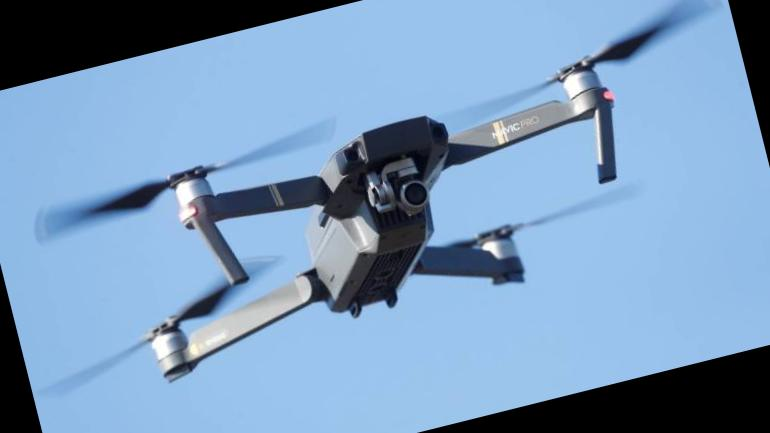drone: (23, 10, 730, 406)
